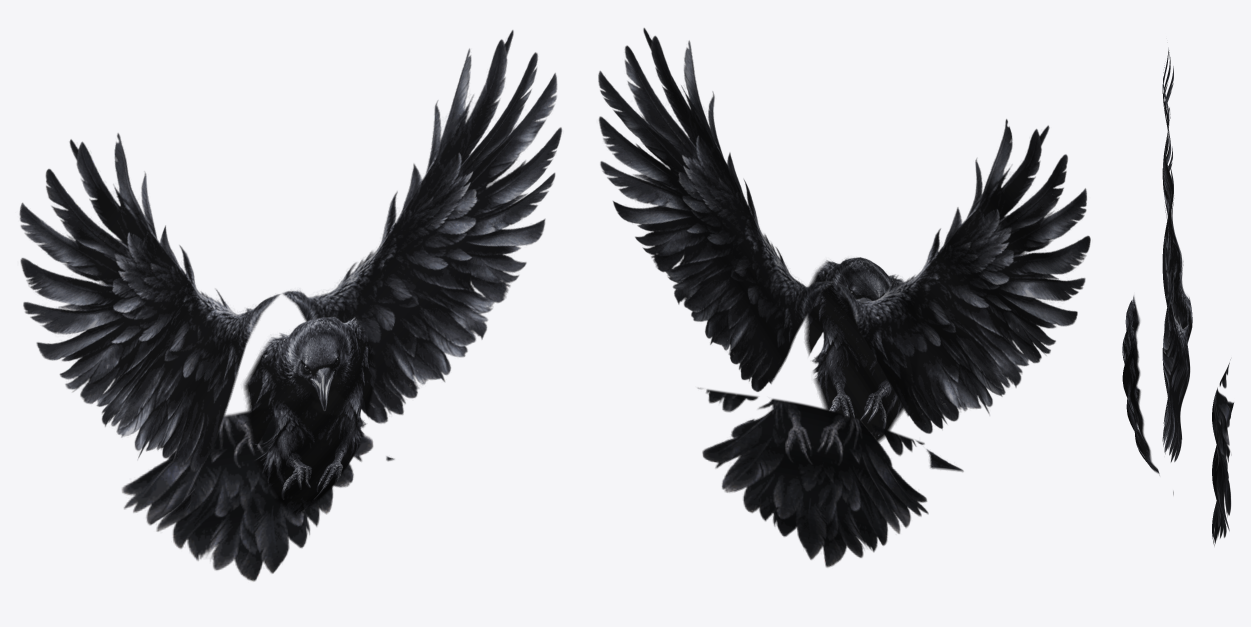
The model's file is raven_hd_articulated.glb.
3 renders of one model, left to right at view 1: azimuth 30°, elevation 25°; view 2: azimuth 150°, elevation 25°; view 3: azimuth 270°, elevation 25°, orthographic. The views are drawn at different scales.
Parts seen in each view (by area): view 1: LeftWing, RightWing, Body, Tail; view 2: LeftWing, RightWing, Tail, Body; view 3: RightWing, LeftWing, Tail, Body.
Part boxes in pixels (bbox=[...]): LeftWing: bbox=[19, 133, 280, 519]; RightWing: bbox=[282, 30, 561, 461]; Body: bbox=[243, 315, 375, 517]; Tail: bbox=[122, 411, 373, 581]; LeftWing: bbox=[836, 119, 1090, 472]; RightWing: bbox=[598, 28, 834, 421]; Tail: bbox=[698, 388, 928, 567]; Body: bbox=[804, 257, 904, 442]; RightWing: bbox=[1162, 206, 1190, 495]; LeftWing: bbox=[1162, 48, 1192, 342]; Tail: bbox=[1212, 359, 1233, 546]; Body: bbox=[1122, 295, 1159, 475].
Bounding box in the file's own units: 7.25 × 6.63 × 1.61.
Materials: 4 (4 with a texture image).
